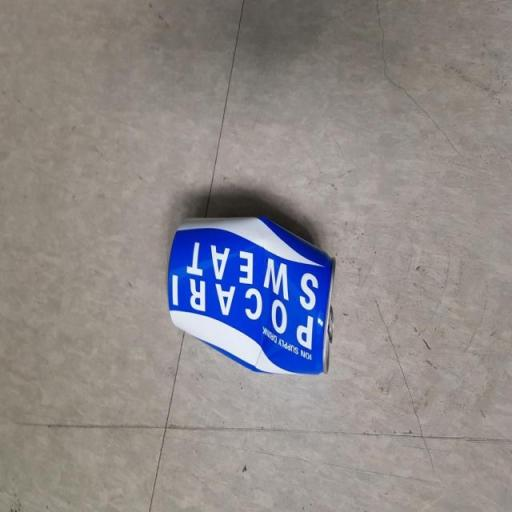metal: (146, 180, 380, 450)
